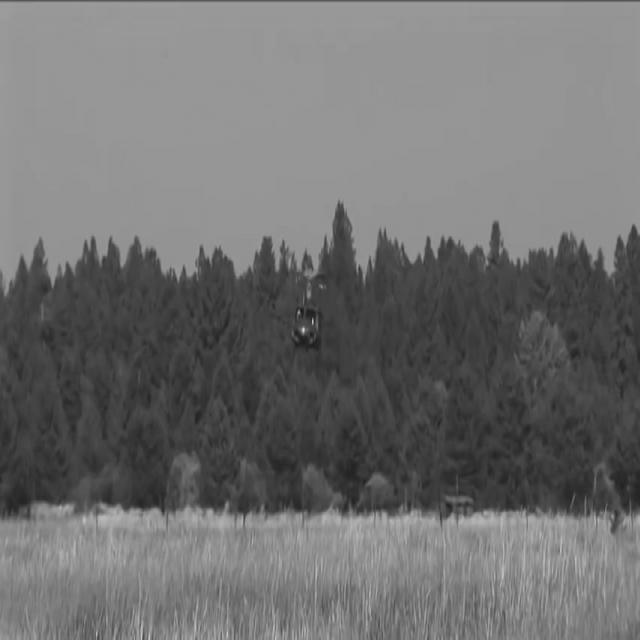helikopter: (271, 265, 348, 367)
